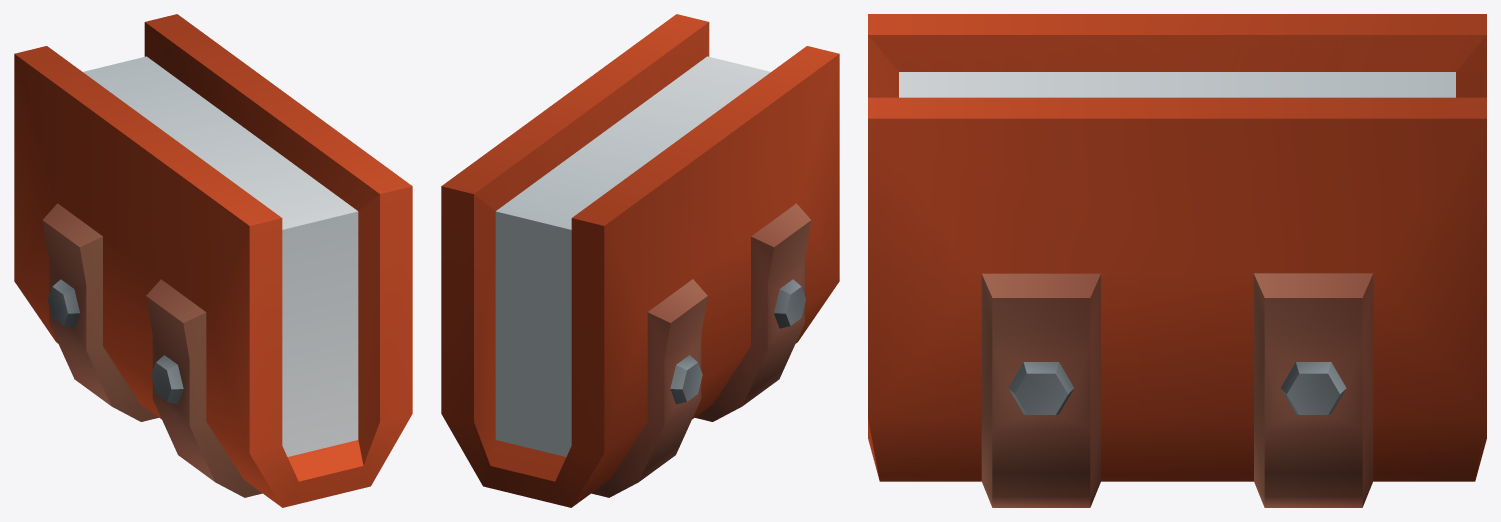
Rendered from feuerbuch.glb.
3 renders of one model, left to right at view 1: azimuth 30°, elevation 25°; view 2: azimuth 150°, elevation 25°; view 3: azimuth 270°, elevation 25°, orthographic. The views are drawn at different scales.
Parts seen in each view (by area): view 1: Spellbook; view 2: Spellbook; view 3: Spellbook.
Part boxes in pixels (x1,y1,x2,y2): Spellbook: (14, 14, 412, 507); Spellbook: (441, 14, 839, 507); Spellbook: (868, 14, 1486, 507).
Size of the model in its own units: 0.293 by 0.4271 by 0.575.
Materials: 1 (1 with a texture image).
